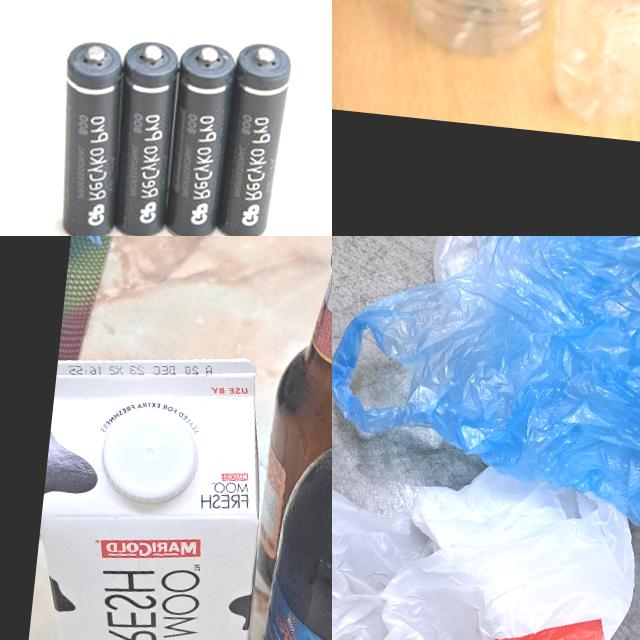bateria: (103, 36, 185, 236), (48, 38, 129, 236), (161, 41, 241, 236), (215, 40, 291, 236)
caixinha: (15, 335, 280, 640)
garrafa de vidro: (246, 236, 332, 640), (250, 236, 332, 602)
garrafa plástica: (540, 0, 640, 129), (364, 0, 573, 61)
sacola plástica: (332, 236, 640, 537), (332, 428, 640, 640), (410, 236, 640, 309)
tampa plástica: (94, 404, 204, 507)
